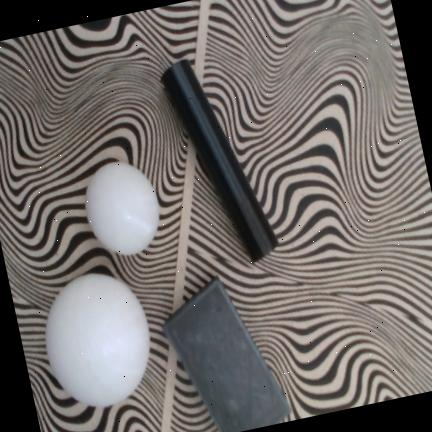Cilindro: (161, 59, 278, 263)
Esfera: (44, 273, 150, 407), (86, 162, 160, 254)
Paralelepipedo: (162, 275, 291, 432)
